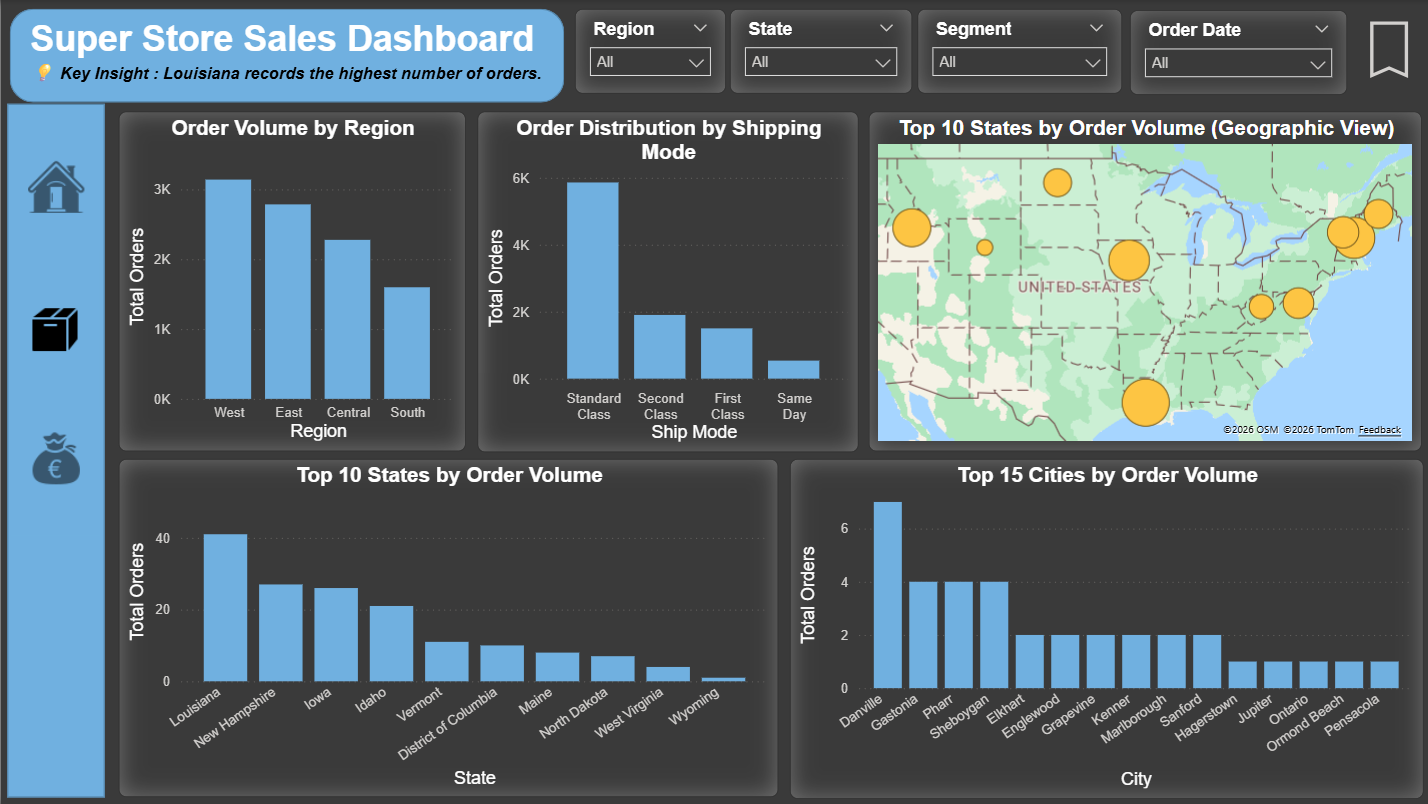

The dashboard page shown, as its layout file describes it:
{"tool":"powerbi","page":{"name":"Orders by Location","canvas":[1280,720],"ordinal":1},"visuals":[{"type":"actionButton","box":[1208.1,7,64,75.6],"z":0},{"type":"shape","box":[5.6,92.7,87.1,619.7],"z":0,"group":"g1"},{"type":"slicer","fields":{"Values":["train (2).State"]},"box":[651,7.8,163,75.9],"z":2000},{"type":"slicer","fields":{"Values":["train (2).Segment"]},"box":[818.5,7.8,183.1,75.9],"z":3000},{"type":"shape","box":[8.1,8.1,495.4,83.7],"z":4000},{"type":"columnChart","title":"Top 15 Cities by Order Volume","fields":{"Category":["train (2).City"],"Y":["CountNonNull(train (2).Order ID)"]},"box":[704.6,409.8,566.1,303.7],"z":4000},{"type":"slicer","fields":{"Values":["train (2).Region"]},"box":[512.5,7.8,135.1,75.9],"z":6000},{"type":"columnChart","title":"Top 10 States by Order Volume","fields":{"Category":["train (2).State"],"Y":["CountNonNull(train (2).Order ID)"]},"box":[105,409.8,589.6,302.6],"z":7000},{"type":"columnChart","title":"Order Volume by Region","fields":{"Category":["train (2).Region"],"Y":["CountNonNull(train (2).Order ID)"]},"box":[105,99.4,310.4,303.7],"z":8000},{"type":"columnChart","title":"Order Distribution by Shipping Mode","fields":{"Y":["CountNonNull(train (2).Order ID)"],"Category":["train (2).Ship Mode"]},"box":[425.6,98.8,340.7,304.7],"z":9000},{"type":"azureMap","title":"Top 10 States by Order Volume (Geographic View)","fields":{"Size":["CountNonNull(train (2).Order ID)"],"Category":["train (2).State"]},"box":[774.9,99.4,494.7,303.7],"z":10000},{"type":"group","id":"g1","title":"Group 1","box":[5.6,92.7,87.1,619.7],"z":11000},{"type":"slicer","fields":{"Values":["train (2).Order Date.Variation.Date Hierarchy.Year","train (2).Order Date.Variation.Date Hierarchy.Month"]},"box":[1008.6,8.4,194.5,75.6],"z":12000},{"type":"actionButton","title":"Home","box":[8.9,94.9,80.4,139.6],"z":13000},{"type":"actionButton","box":[7.8,224.4,80.4,139.6],"z":14000},{"type":"actionButton","box":[8.9,339.5,80.4,139.6],"z":15000},{"type":"textbox","box":[20.9,12.8,468.6,70.9],"z":15001}]}

Visuals, with their boxes in screenshot pixels (x1, y1, x2, y2), scaled from the page's 1280x720 canvas onto the 1428x804 screenshot:
actionButton: {"x1": 1348, "y1": 8, "x2": 1419, "y2": 92}
shape: {"x1": 6, "y1": 104, "x2": 103, "y2": 796}
slicer - train (2).State: {"x1": 726, "y1": 9, "x2": 908, "y2": 93}
slicer - train (2).Segment: {"x1": 913, "y1": 9, "x2": 1117, "y2": 93}
shape: {"x1": 9, "y1": 9, "x2": 562, "y2": 103}
"Top 15 Cities by Order Volume" columnChart: {"x1": 786, "y1": 458, "x2": 1418, "y2": 797}
slicer - train (2).Region: {"x1": 572, "y1": 9, "x2": 722, "y2": 93}
"Top 10 States by Order Volume" columnChart: {"x1": 117, "y1": 458, "x2": 775, "y2": 796}
"Order Volume by Region" columnChart: {"x1": 117, "y1": 111, "x2": 463, "y2": 450}
"Order Distribution by Shipping Mode" columnChart: {"x1": 475, "y1": 110, "x2": 855, "y2": 451}
"Top 10 States by Order Volume (Geographic View)" azureMap: {"x1": 864, "y1": 111, "x2": 1416, "y2": 450}
"Group 1" group: {"x1": 6, "y1": 104, "x2": 103, "y2": 796}
slicer - train (2).Order Date.Variation.Date Hierarchy.Year x train (2).Order Date.Variation.Date Hierarchy.Month: {"x1": 1125, "y1": 9, "x2": 1342, "y2": 94}
"Home" actionButton: {"x1": 10, "y1": 106, "x2": 100, "y2": 262}
actionButton: {"x1": 9, "y1": 251, "x2": 98, "y2": 406}
actionButton: {"x1": 10, "y1": 379, "x2": 100, "y2": 535}
textbox: {"x1": 23, "y1": 14, "x2": 546, "y2": 93}
